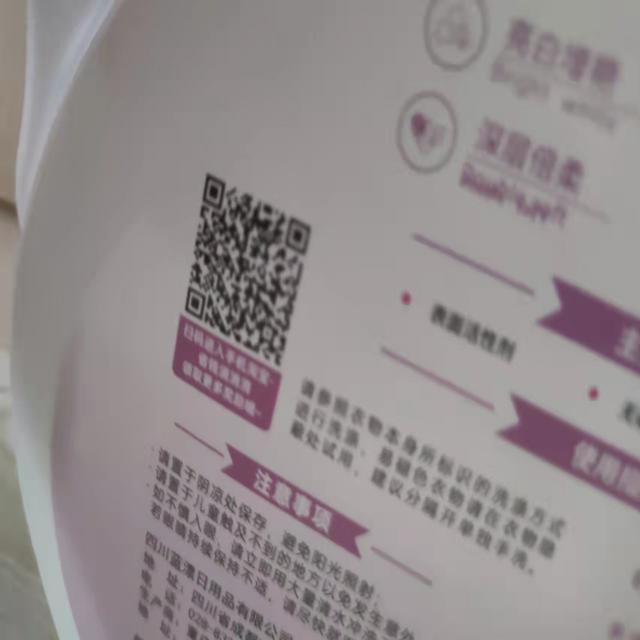qr_code: (185, 173, 311, 368)
